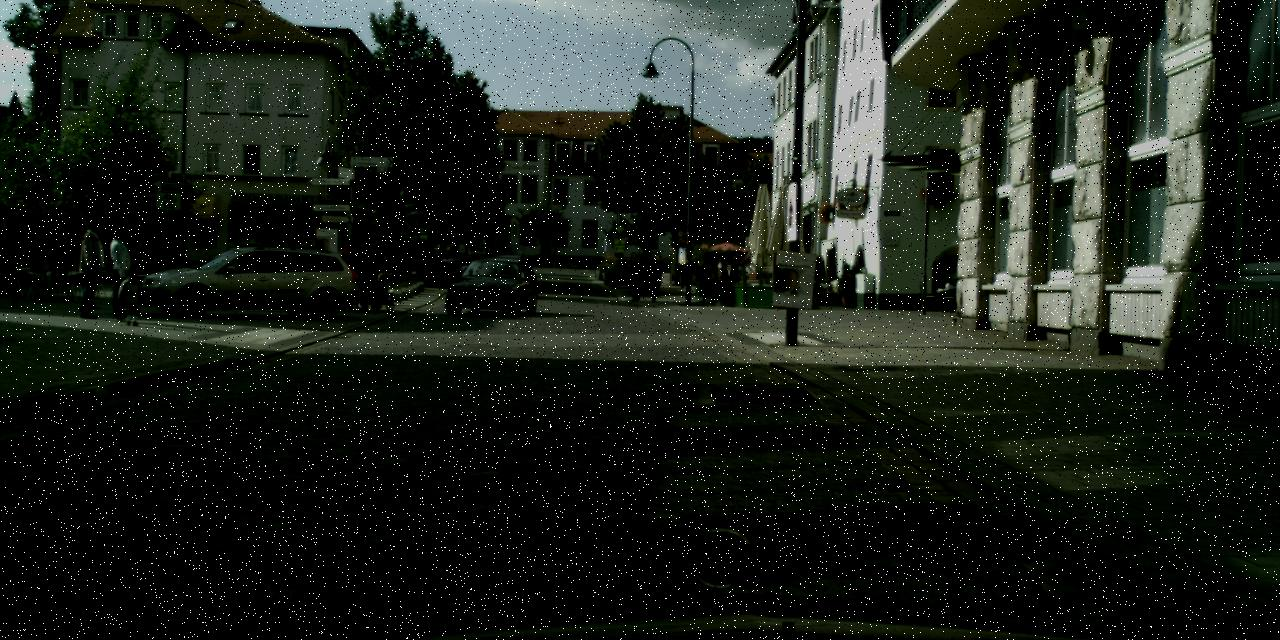ped: (71, 220, 111, 319), (102, 226, 140, 320), (353, 237, 384, 312), (333, 239, 362, 310), (121, 267, 143, 325), (278, 240, 299, 291), (624, 252, 644, 301), (644, 255, 664, 302)
